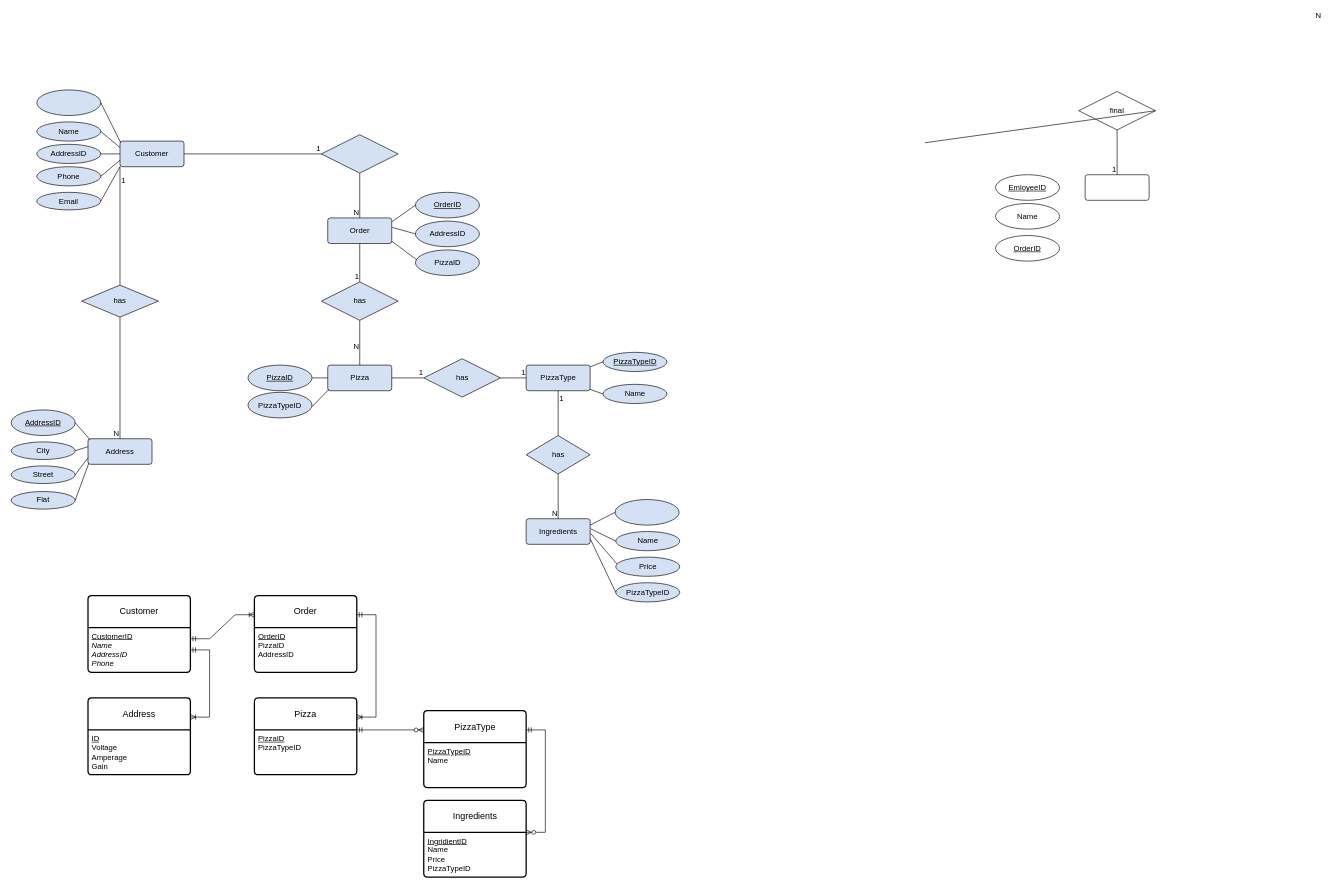
The diagram is 1334 pixels wide and 889 high, and some of its shapes have lost their labels. The shapes that lost their labels are listed below. From the top down, each one's box as (x1, y1, x2, y2) in pixels, then its label:
(36, 89, 101, 116): CustomerID
(321, 134, 398, 173): place
(1084, 174, 1149, 200): Emloyee
(614, 499, 679, 525): IngridientID
